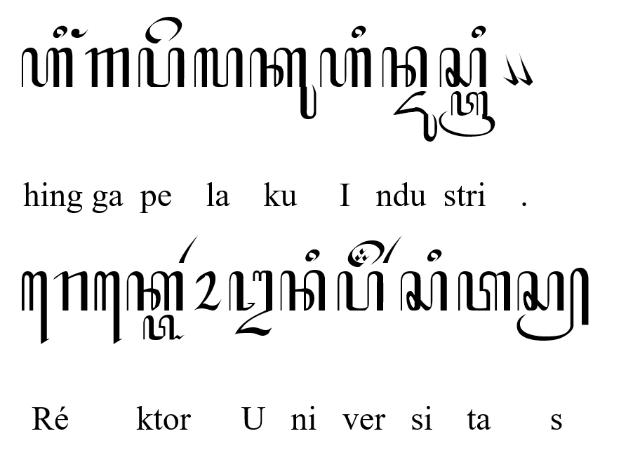-s: (516, 266, 590, 341)
U: (228, 270, 274, 336)
_du: (392, 90, 438, 142)
_r1: (178, 234, 200, 264), (382, 236, 403, 264)
_t: (142, 314, 185, 342)
e: (145, 15, 183, 44)
e1: (21, 271, 49, 345), (94, 270, 122, 344)
ealt: (347, 240, 385, 268)
g: (85, 47, 131, 87)
h: (21, 47, 73, 89), (320, 48, 372, 89)
i: (350, 24, 366, 40), (471, 24, 487, 40), (52, 25, 68, 39), (304, 248, 320, 262), (426, 248, 442, 262)
k: (126, 272, 184, 312)
kom: (516, 52, 534, 86), (503, 52, 519, 86)
ku: (249, 46, 317, 120)
l: (194, 47, 244, 89)
n: (279, 268, 327, 311), (381, 46, 427, 88)
ng: (70, 27, 90, 39)
o: (194, 271, 222, 311)
p: (336, 270, 384, 312), (137, 48, 185, 89)
r: (54, 270, 90, 312)
s: (438, 47, 488, 89), (399, 270, 448, 312)
t: (456, 270, 512, 312)
tr: (438, 90, 496, 138)
